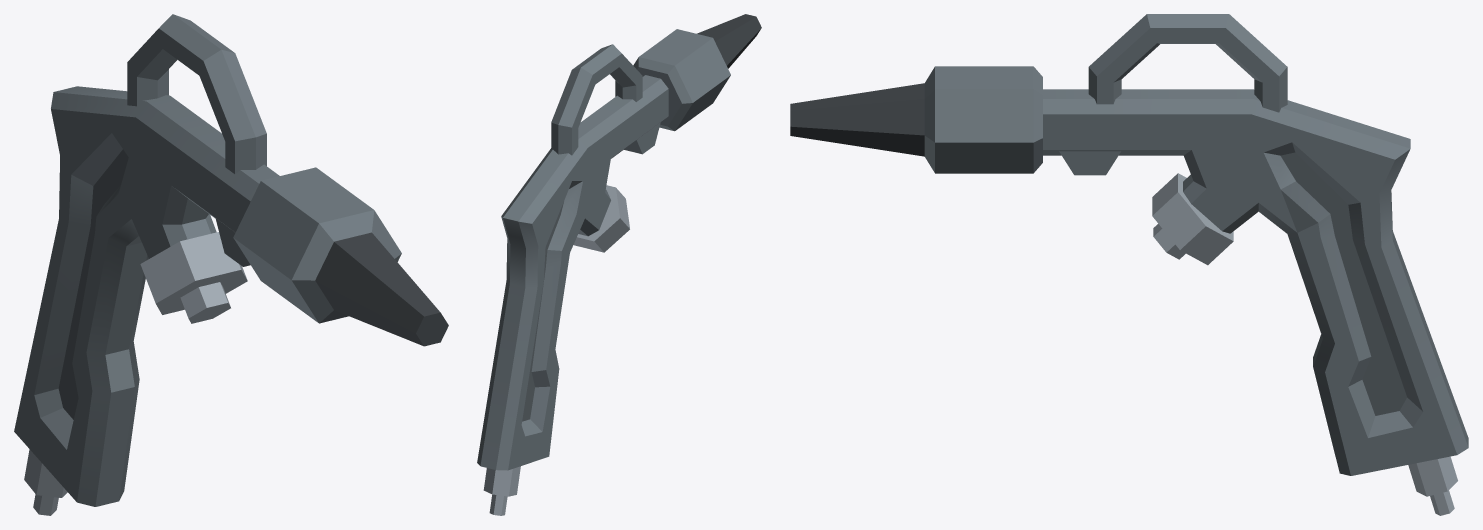
File: SM_Prop_AirSprayer_02.fbx
The picture shows the model from 3 angles, left to right: view 1: azimuth 30°, elevation 25°; view 2: azimuth 150°, elevation 25°; view 3: azimuth 270°, elevation 25°; orthographic projection. The views are drawn at different scales.
Visible parts, largest first — view 1: SM_Prop_AirSprayer_02; view 2: SM_Prop_AirSprayer_02; view 3: SM_Prop_AirSprayer_02.
Boxes of the visible parts, bbox=[...] form: SM_Prop_AirSprayer_02: bbox=[14, 14, 448, 515]; SM_Prop_AirSprayer_02: bbox=[477, 14, 761, 515]; SM_Prop_AirSprayer_02: bbox=[790, 14, 1468, 515].
Bounding box in the file's own units: 5.9 × 30.16 × 37.12.
